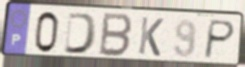0: (33, 11, 61, 54)
9: (173, 18, 200, 59)
B: (97, 11, 135, 59)
D: (62, 11, 99, 56)
K: (136, 15, 165, 58)
P: (202, 18, 237, 60)
